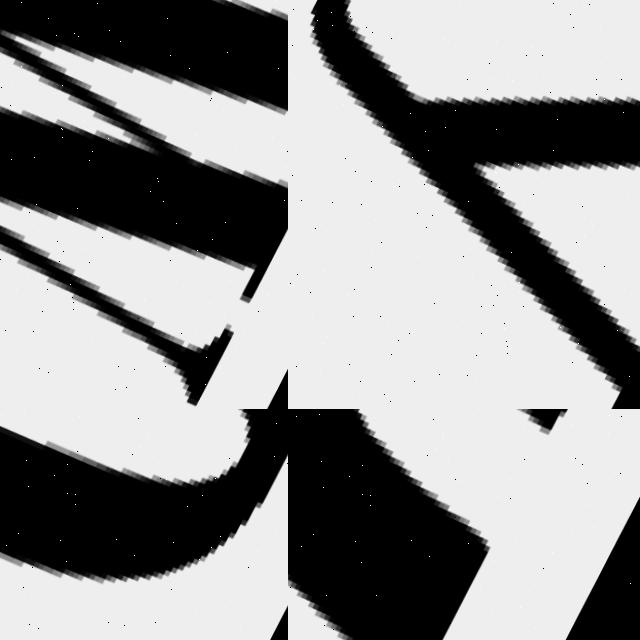0: (0, 409, 288, 640)
V: (288, 409, 640, 640)
W: (0, 0, 288, 409)
Y: (288, 0, 640, 409)
